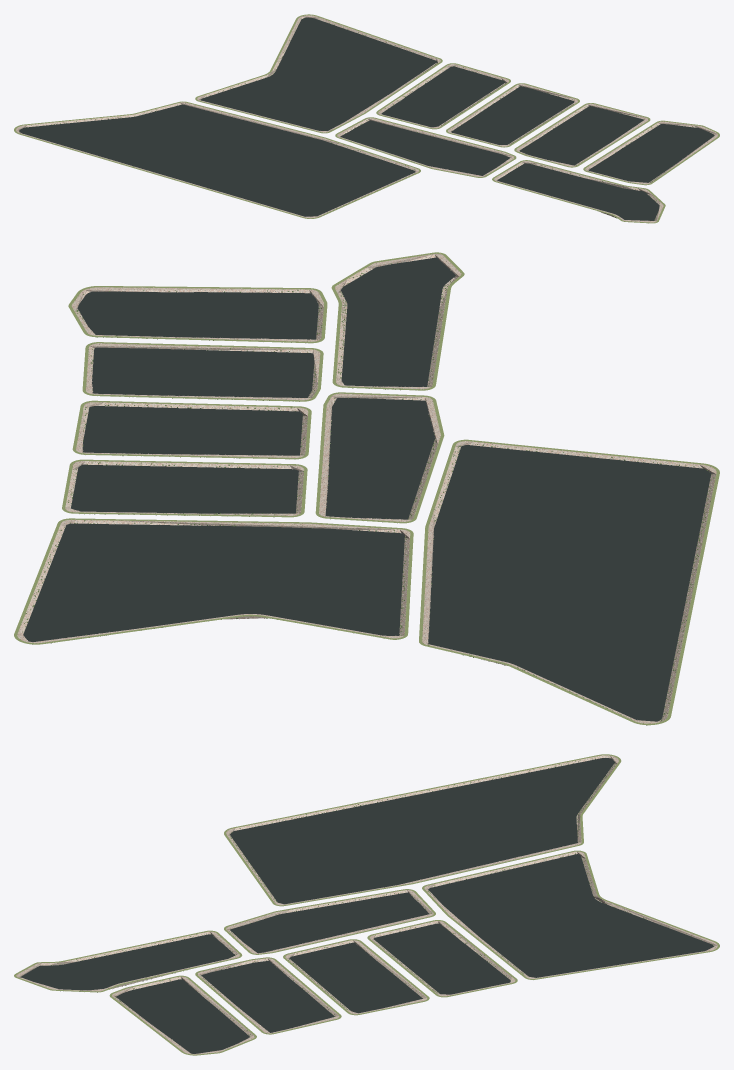
The model's file is Lagunes.glb.
3 renders of one model, top to bottom at view 1: azimuth 30°, elevation 25°; view 2: azimuth 150°, elevation 25°; view 3: azimuth 270°, elevation 25°, orthographic. The views are drawn at different scales.
Visible parts, largest first — view 1: LG_Eau, LG_Talus_enrochement, LG_Crete_herbe, LG_Fond; view 2: LG_Eau, LG_Talus_enrochement, LG_Crete_herbe, LG_Fond; view 3: LG_Eau, LG_Talus_enrochement, LG_Crete_herbe, LG_Fond.
Boxes of the visible parts, x1,y1,x2,y2 form: LG_Eau: [19, 17, 714, 220]; LG_Talus_enrochement: [16, 15, 717, 222]; LG_Crete_herbe: [14, 14, 719, 223]; LG_Fond: [20, 63, 669, 219]; LG_Eau: [23, 257, 711, 721]; LG_Talus_enrochement: [17, 253, 716, 725]; LG_Crete_herbe: [14, 252, 719, 725]; LG_Fond: [28, 277, 660, 721]; LG_Eau: [20, 758, 713, 1053]; LG_Talus_enrochement: [16, 755, 717, 1054]; LG_Crete_herbe: [14, 754, 719, 1055]; LG_Fond: [22, 764, 703, 1054].
Bounding box in the file's own units: 455 × 2.66 × 451.
Materials: 4 (4 with a texture image).
